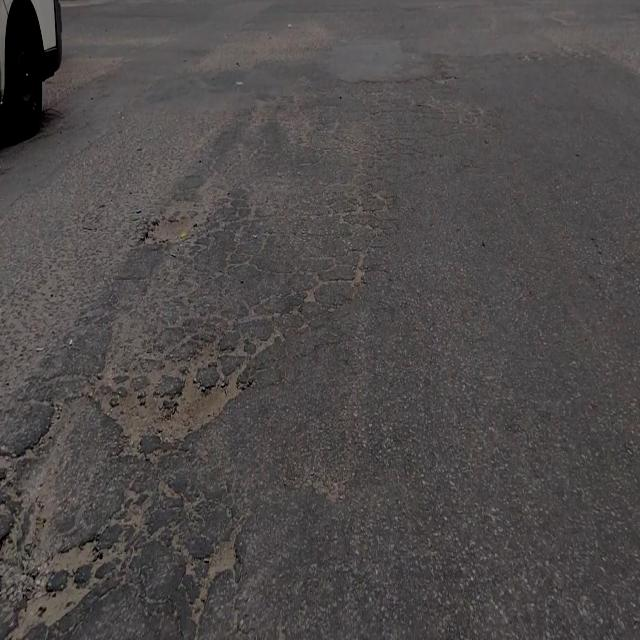Potholes: (90, 362, 249, 463), (10, 531, 103, 636), (141, 215, 201, 247)
